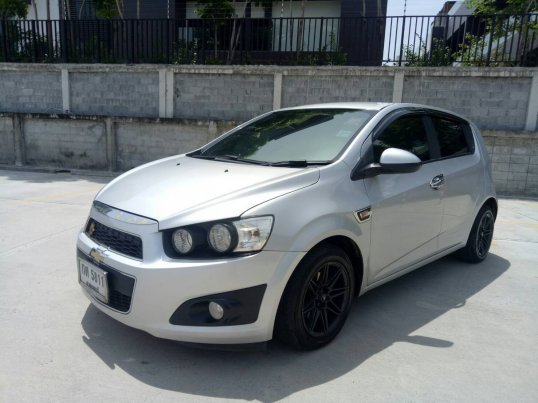sedan: (74, 101, 500, 351)
